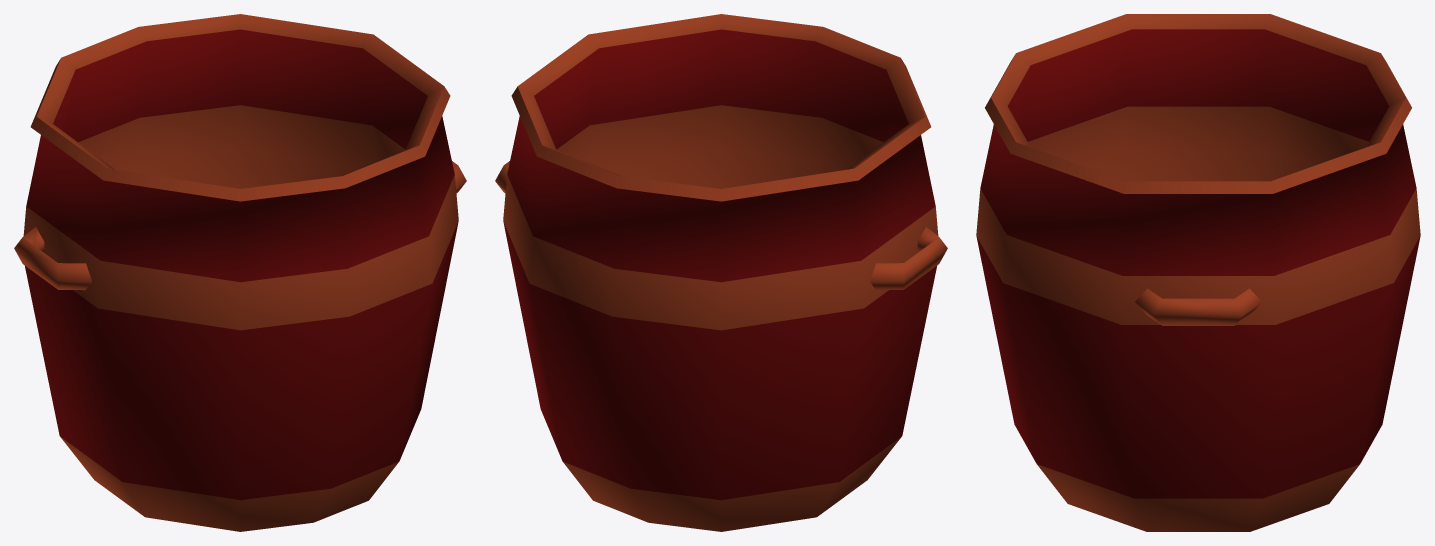
File: Pot3.FBX
The picture shows the model from 3 angles, left to right: view 1: azimuth 30°, elevation 25°; view 2: azimuth 150°, elevation 25°; view 3: azimuth 270°, elevation 25°; orthographic projection.
Visible parts, largest first — view 1: Pot001; view 2: Pot001; view 3: Pot001.
Part boxes in pixels (x1,y1,x2,y2): Pot001: [14, 14, 466, 531]; Pot001: [495, 14, 947, 531]; Pot001: [976, 14, 1420, 531].
Size of the model in its own units: 37.28 by 32.06 by 34.5.
